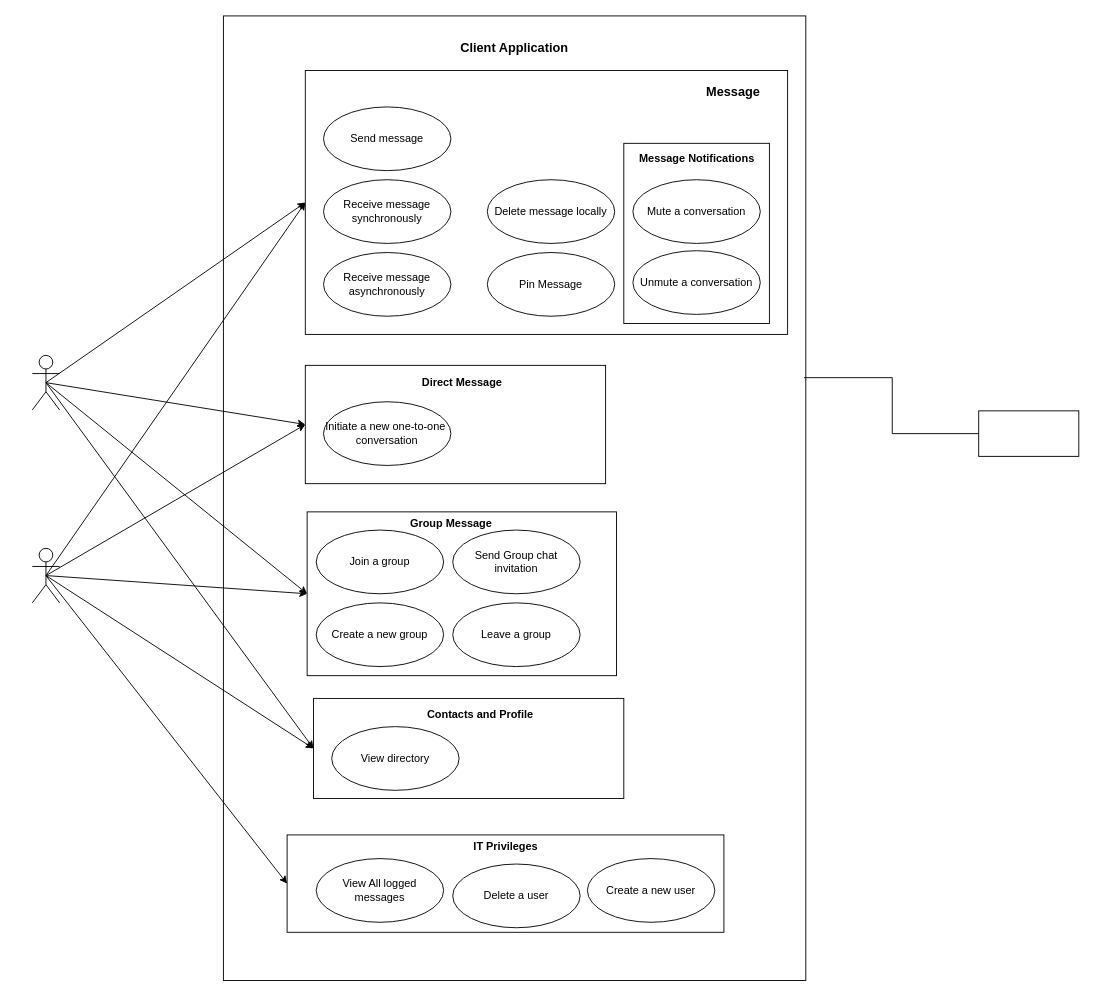
Some shapes in this 1095 by 996 pixel diagram are drawn without their labels. The shapes that lost their labels are listed below. From the top down, each one's centre as x and y in pixels, then its label:
point (45, 382): Normal User
point (1028, 433): Sever Application
point (45, 575): IT User
